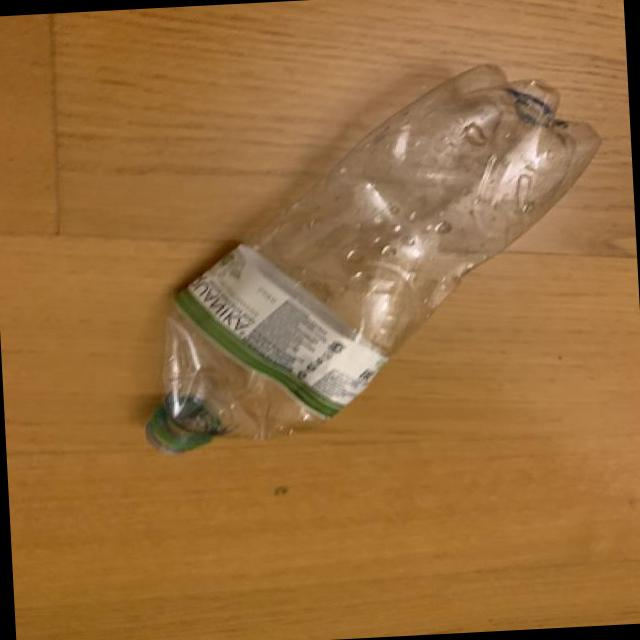plastic_bottle: (127, 50, 621, 456)
